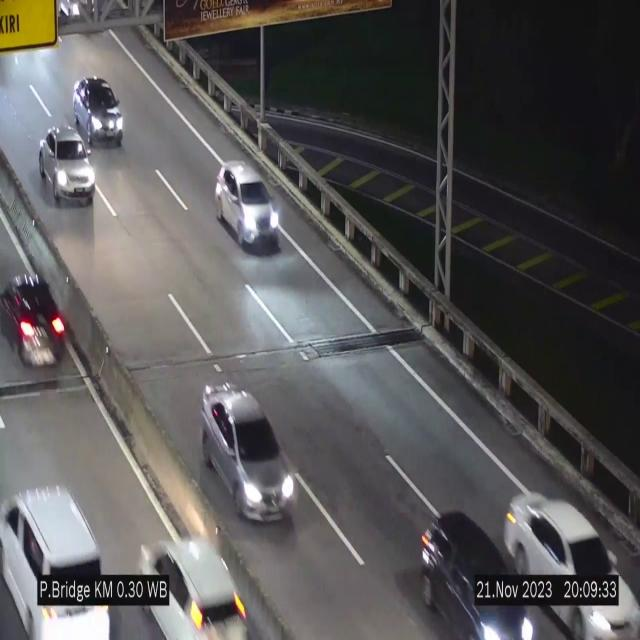Car: (503, 480, 640, 640), (0, 466, 112, 640), (414, 506, 541, 640), (136, 519, 250, 640), (201, 383, 297, 522), (0, 258, 70, 372), (214, 162, 282, 248), (39, 127, 95, 206), (73, 76, 123, 148)
